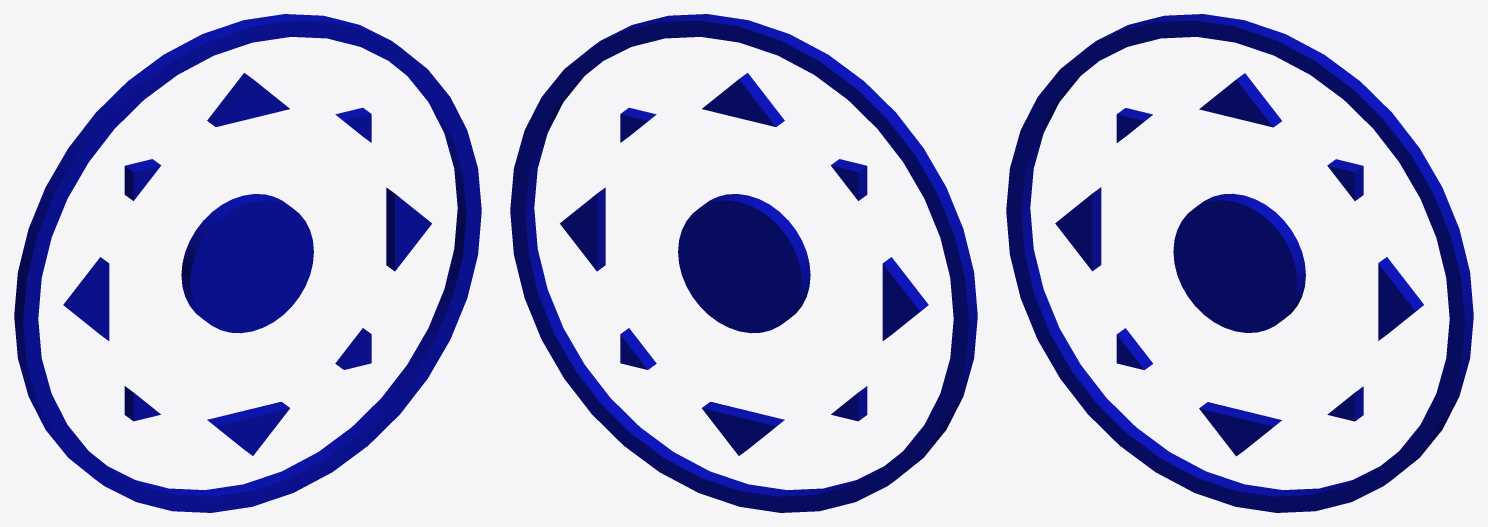
File: Joystick_6.FBX
3 views of the same model, side by side, from view 1: azimuth 30°, elevation 25°; view 2: azimuth 150°, elevation 25°; view 3: azimuth 330°, elevation 25° (orthographic).
Visible parts, largest first — view 1: Joystick_6; view 2: Joystick_6; view 3: Joystick_6.
Boxes of the visible parts, x1,y1,x2,y2 form: Joystick_6: (14,14,481,512); Joystick_6: (510,14,977,512); Joystick_6: (1006,14,1473,512).
Bounding box in the file's own units: 90 × 90 × 3.
